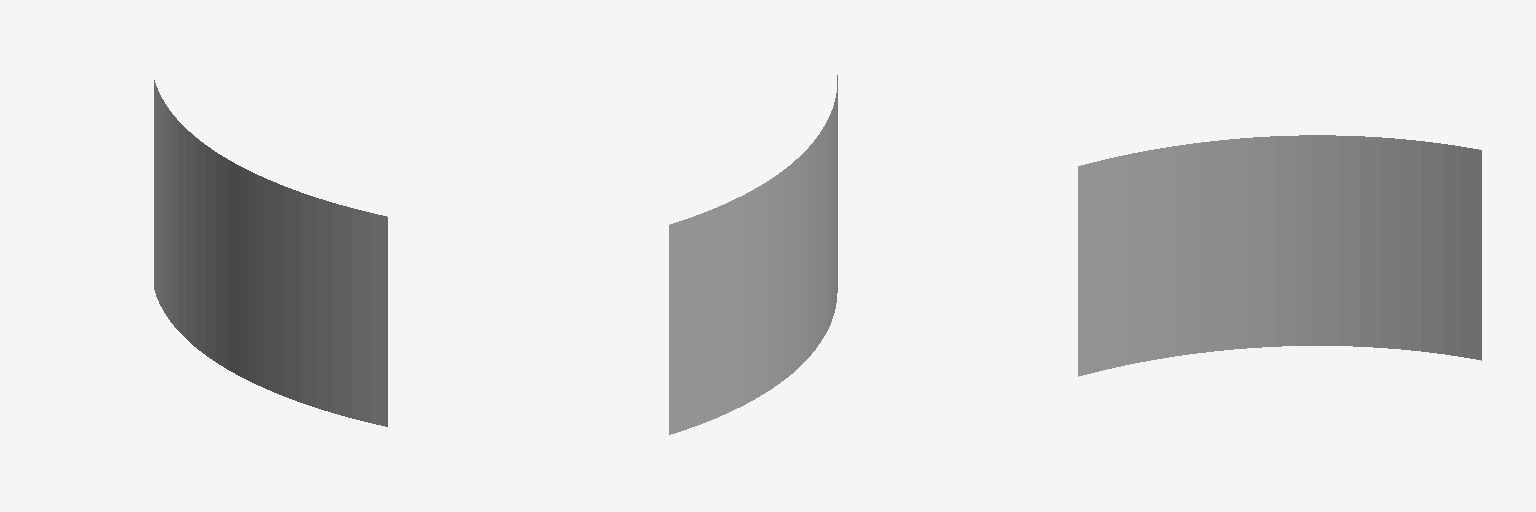
The model's file is Screen_1.obj.
The picture shows the model from 3 angles: view 1: azimuth 30°, elevation 25°; view 2: azimuth 150°, elevation 25°; view 3: azimuth 270°, elevation 25°; orthographic projection.
Parts seen in each view (by area): view 1: stage1_1_feed; view 2: stage1_1_feed; view 3: stage1_1_feed.
Boxes of the visible parts, <box> form: stage1_1_feed: <box>154,80,387,426</box>; stage1_1_feed: <box>669,75,837,434</box>; stage1_1_feed: <box>1078,135,1481,376</box>.
Bounding box in the file's own units: 1.73 × 5.5 × 9.55.